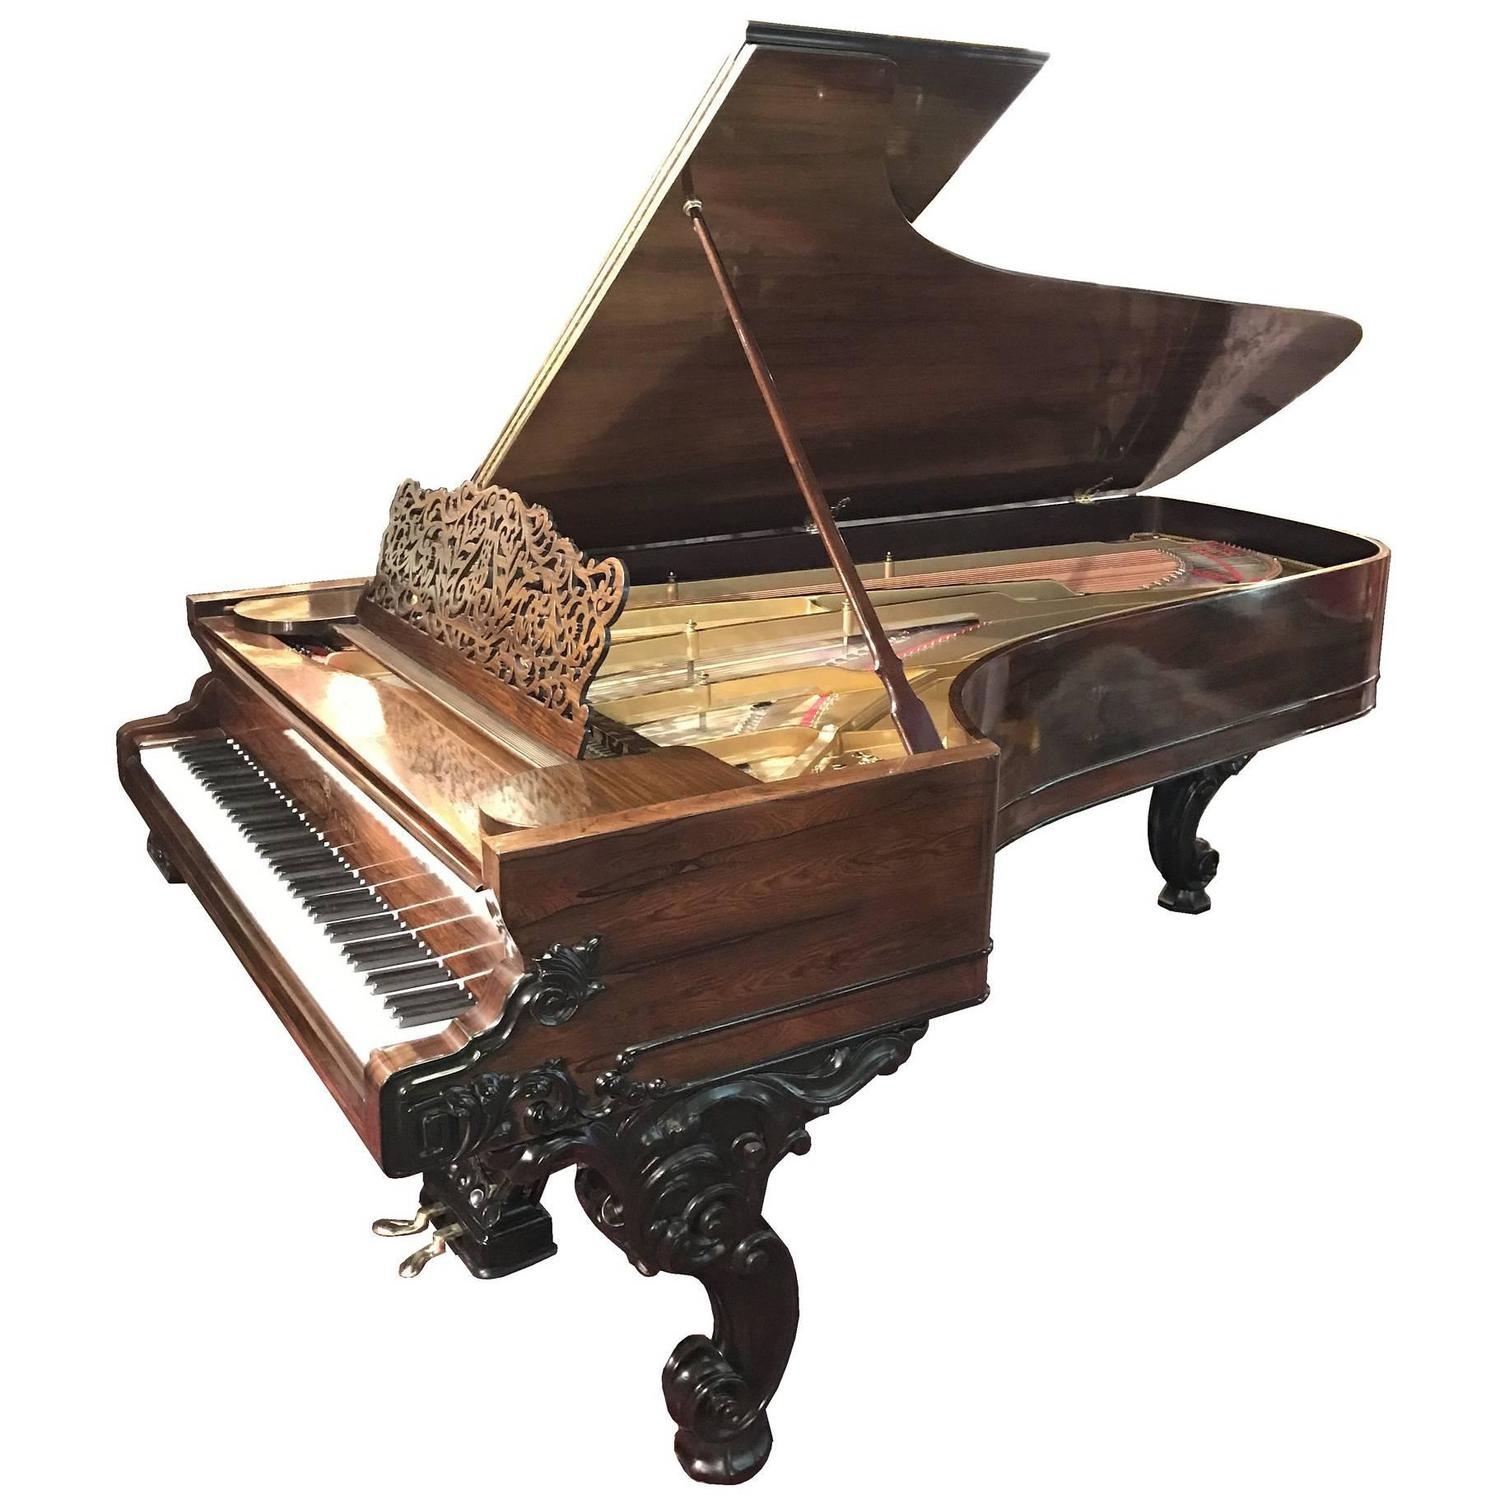GrandPiano: (130, 30, 1396, 1409)
